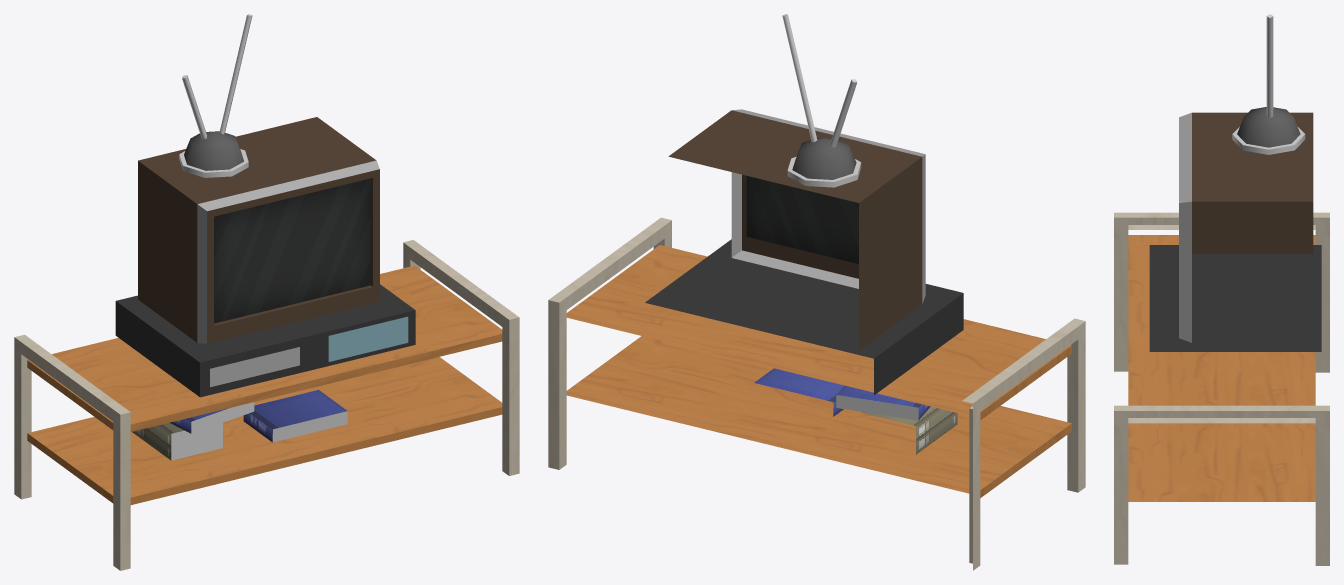
The model's file is interior_A_002.fbx.
3 renders of one model, left to right at view 1: azimuth 30°, elevation 25°; view 2: azimuth 150°, elevation 25°; view 3: azimuth 270°, elevation 25°, orthographic. The views are drawn at different scales.
Parts seen in each view (by area): view 1: interior_A_002; view 2: interior_A_002; view 3: interior_A_002.
Boxes of the visible parts, x1,y1,x2,y2 form: interior_A_002: [14, 14, 519, 570]; interior_A_002: [548, 14, 1085, 570]; interior_A_002: [1114, 14, 1329, 565].
Size of the model in its own units: 160 by 173 by 73.49.
11 materials, 5 textured.
